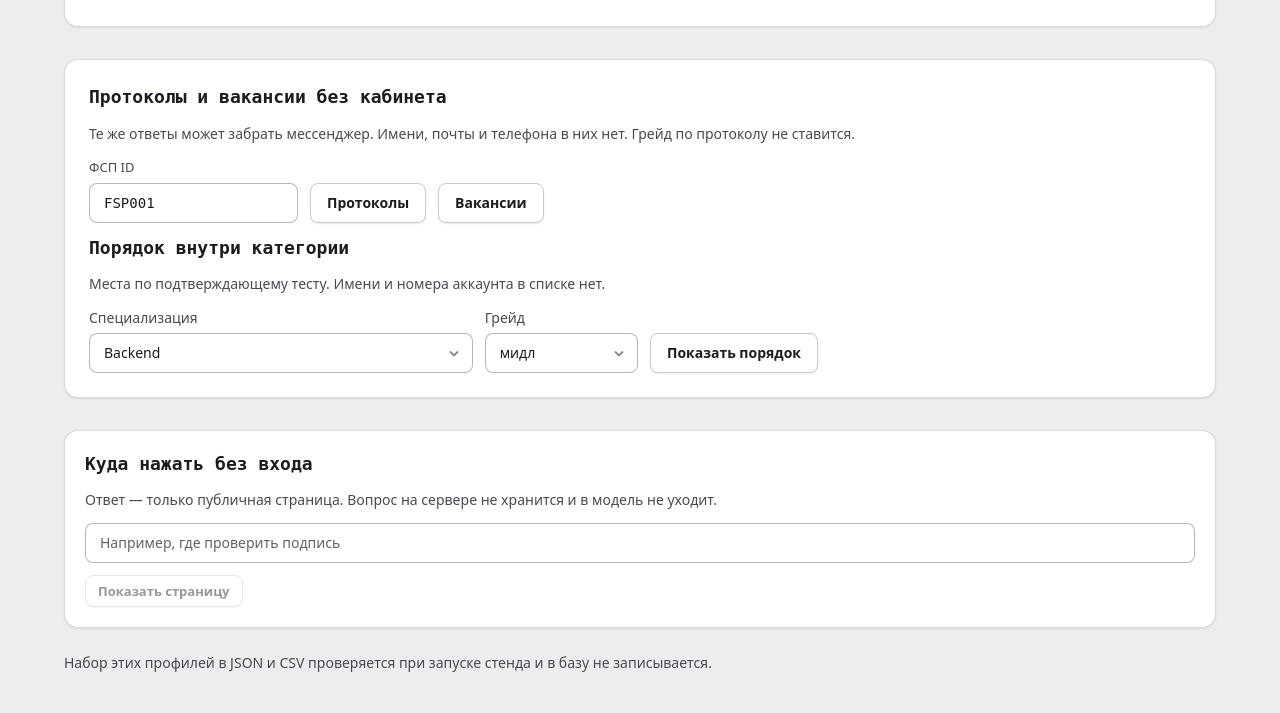
Test: канал без кабинета › пустую категорию не выдаёт за скрытую
(page scrolled)
Click the button "Показать порядок": coordinates (734, 353) x1=650 y1=333 x2=818 y2=373
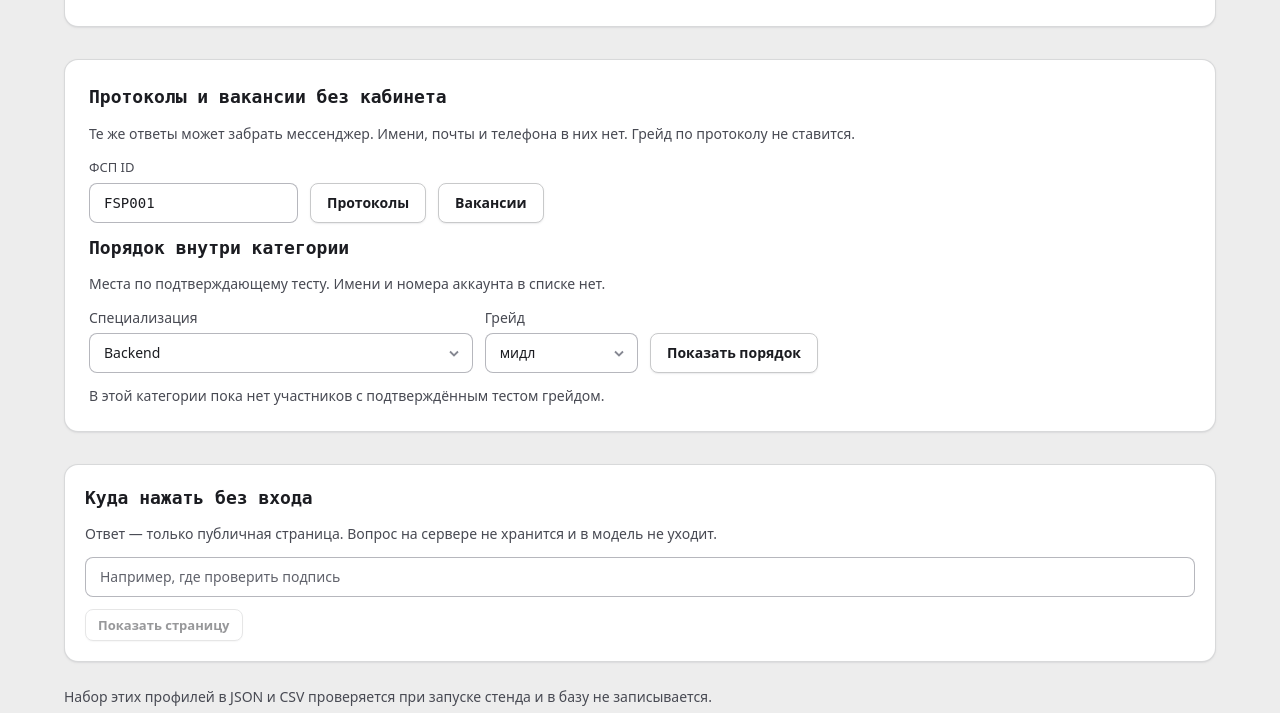
Result: the text "пока нет участников с подтверждённым тестом грейдом" is shown at x1=89 y1=386 x2=604 y2=405
